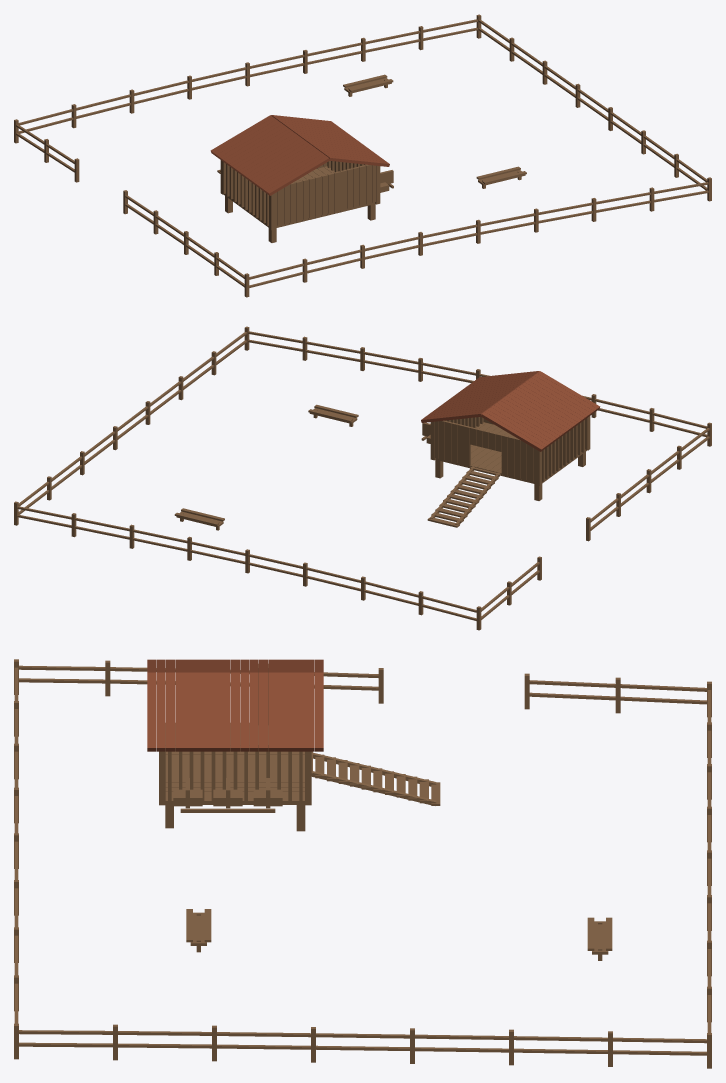
File: ChickenCoopV5.glb
The picture shows the model from 3 angles, top to bottom: view 1: azimuth 30°, elevation 25°; view 2: azimuth 150°, elevation 25°; view 3: azimuth 270°, elevation 25°; orthographic projection. The views are drawn at different scales.
Visible parts, largest first — view 1: Chicken coop — boards, roof, nesting boxes and supported ram, Poultry run — open east entrance, Poultry feed troughs; view 2: Chicken coop — boards, roof, nesting boxes and supported ram, Poultry run — open east entrance, Poultry feed troughs; view 3: Chicken coop — boards, roof, nesting boxes and supported ram, Poultry run — open east entrance, Poultry feed troughs.
Part boxes in pixels (x1=…): Chicken coop — boards, roof, nesting boxes and supported ram: x1=210, y1=115, x2=393, y2=242; Poultry run — open east entrance: x1=14, y1=14, x2=711, y2=297; Poultry feed troughs: x1=343, y1=74, x2=526, y2=188; Chicken coop — boards, roof, nesting boxes and supported ram: x1=421, y1=371, x2=600, y2=527; Poultry run — open east entrance: x1=14, y1=326, x2=711, y2=630; Poultry feed troughs: x1=174, y1=404, x2=358, y2=530; Chicken coop — boards, roof, nesting boxes and supported ram: x1=147, y1=659, x2=440, y2=831; Poultry run — open east entrance: x1=14, y1=659, x2=711, y2=1068; Poultry feed troughs: x1=186, y1=909, x2=612, y2=960.
Size of the model in its own units: 22.14 by 4.49 by 19.14.
